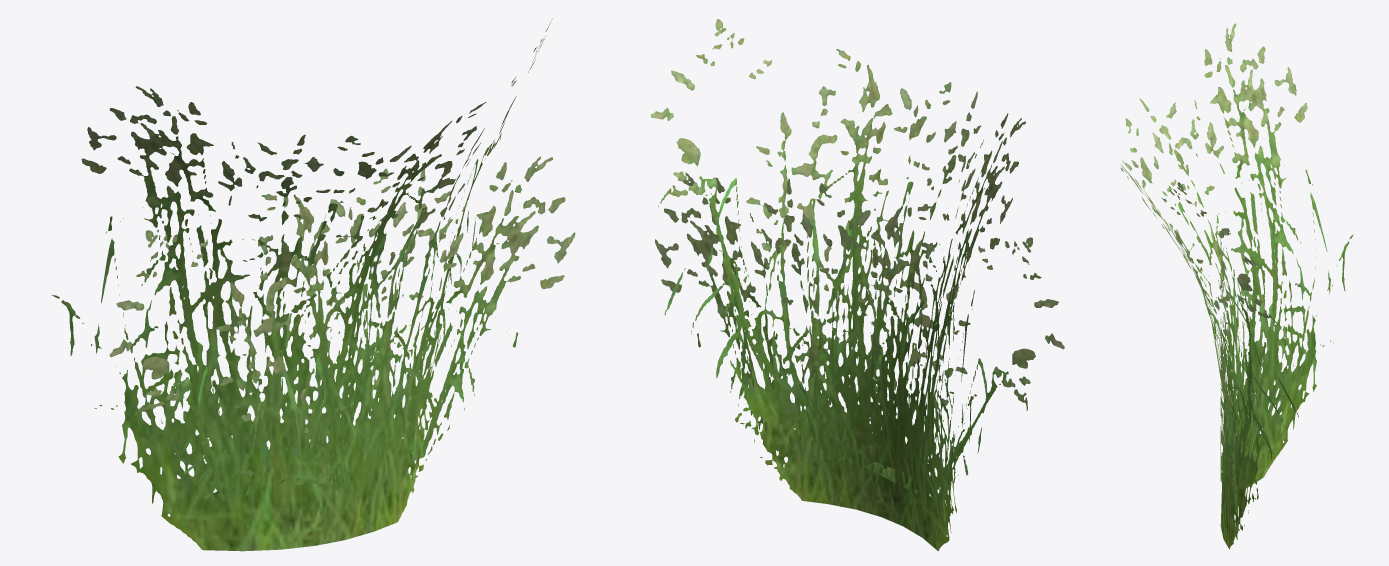
Rendered from tuft.glb.
The picture shows the model from 3 angles, left to right: view 1: azimuth 30°, elevation 25°; view 2: azimuth 150°, elevation 25°; view 3: azimuth 270°, elevation 25°; orthographic projection. The views are drawn at different scales.
Visible parts, largest first — view 1: Object_3; view 2: Object_3; view 3: Object_3.
Part boxes in pixels (x1,y1,x2,y2): Object_3: (52, 18, 575, 551); Object_3: (651, 19, 1064, 551); Object_3: (1120, 23, 1353, 549).
Bounding box in the file's own units: 1.1 × 1.04 × 0.5858.
Materials: 1 (1 with a texture image).
